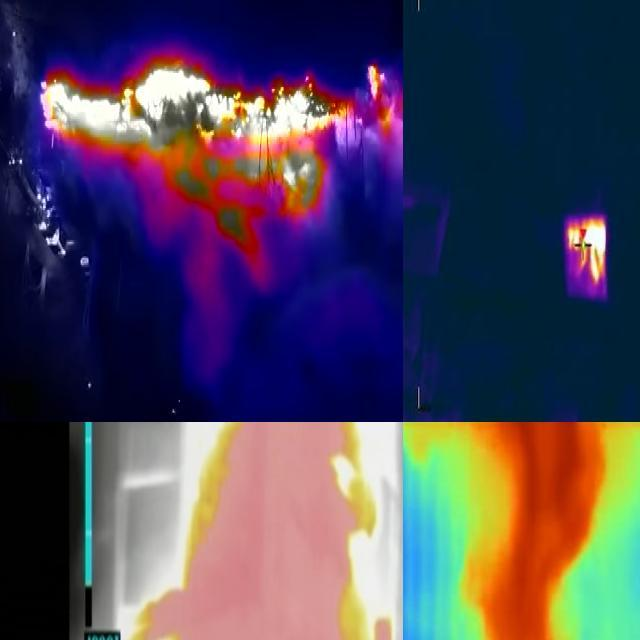fire: (39, 53, 400, 230), (126, 423, 398, 640), (566, 212, 608, 302)
